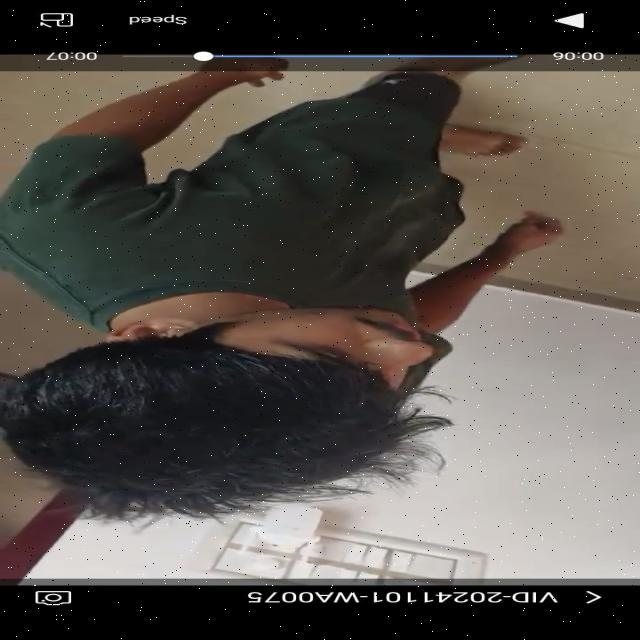humans: (8, 69, 568, 517)
